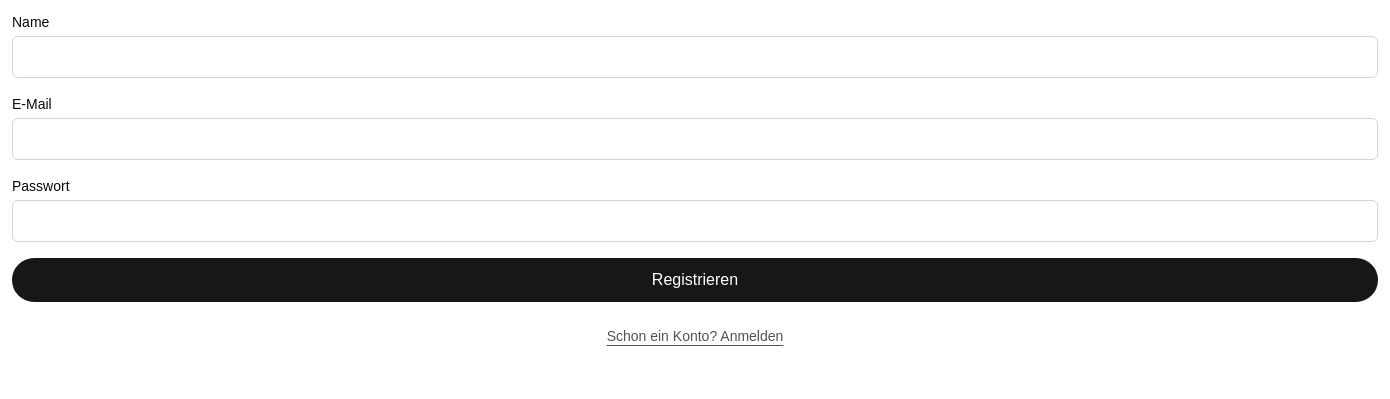
it: F004 RegisterForm › F004/AC-3 zeigt bei bereits registrierter E-Mail die Meldung über dem Button und behält die Eingaben
Type "Max Mustermann" into the field labelled "Name" at [695, 57], box [12,36,1378,78]
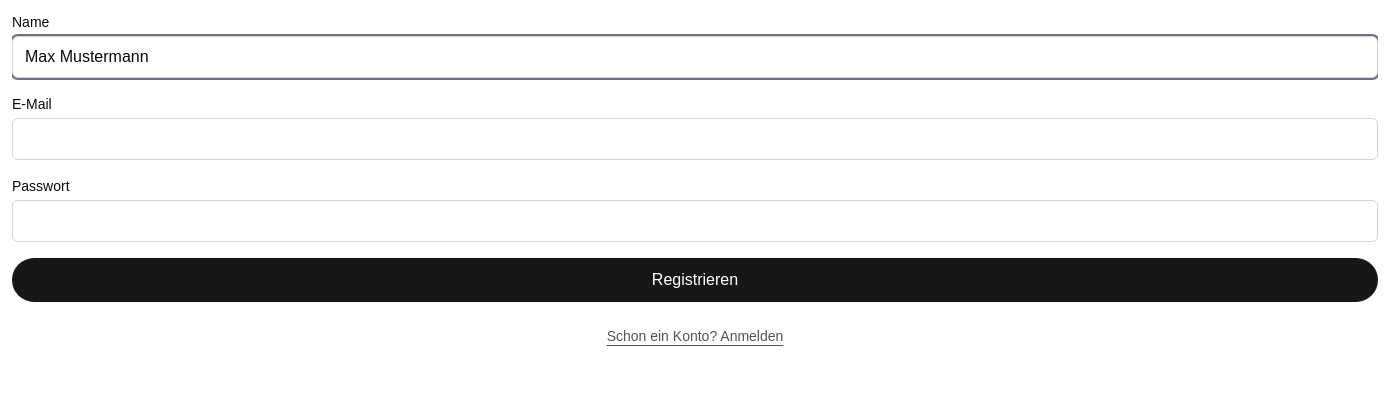
Type "max@example.com" into the field labelled "E-Mail" at [695, 139], box [12,118,1378,160]
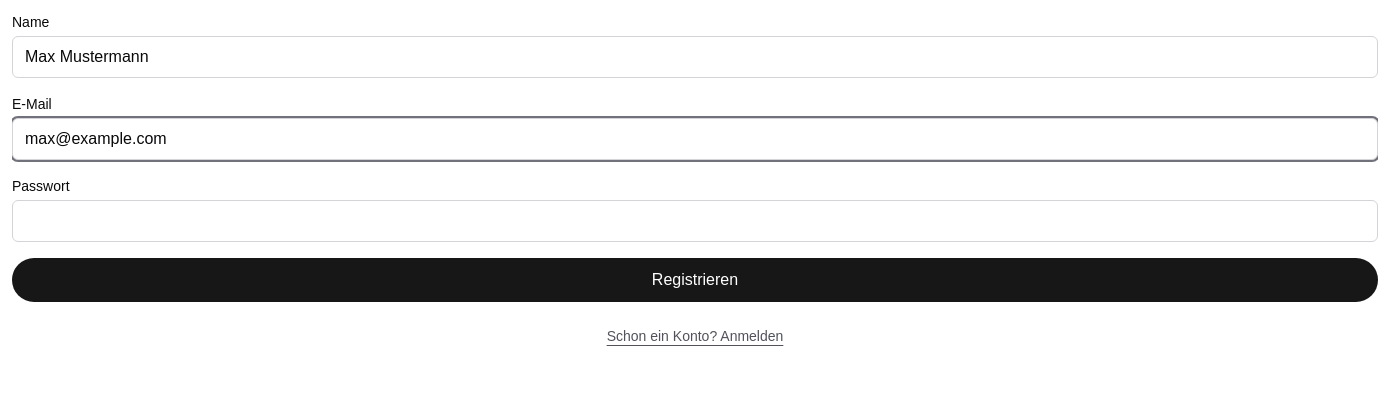
Type "geheim123" into the password field labelled "Passwort" at [695, 221], box [12,200,1378,242]
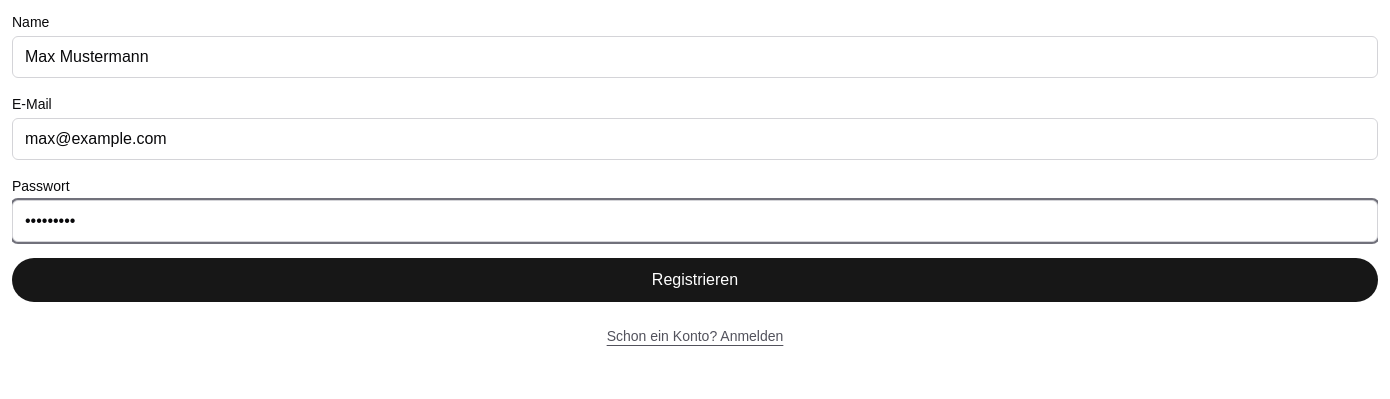
Click the button "Registrieren" at [695, 280], box [12,258,1378,302]
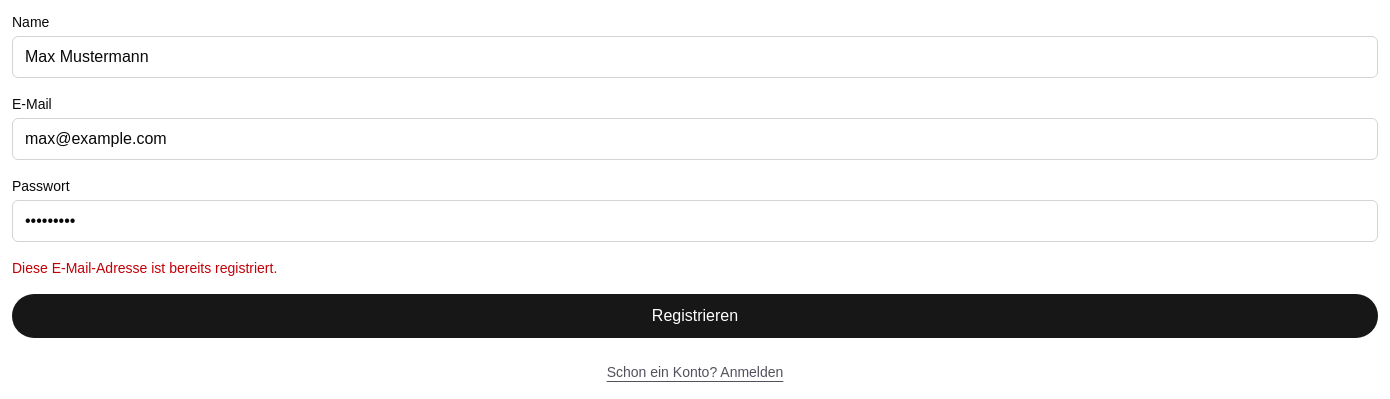
Expected: the button "Registrieren" is enabled, [12,294,1378,338]
Now the message reads "Diese E-Mail-Adresse ist bereits registriert.", box [12,260,277,276]
